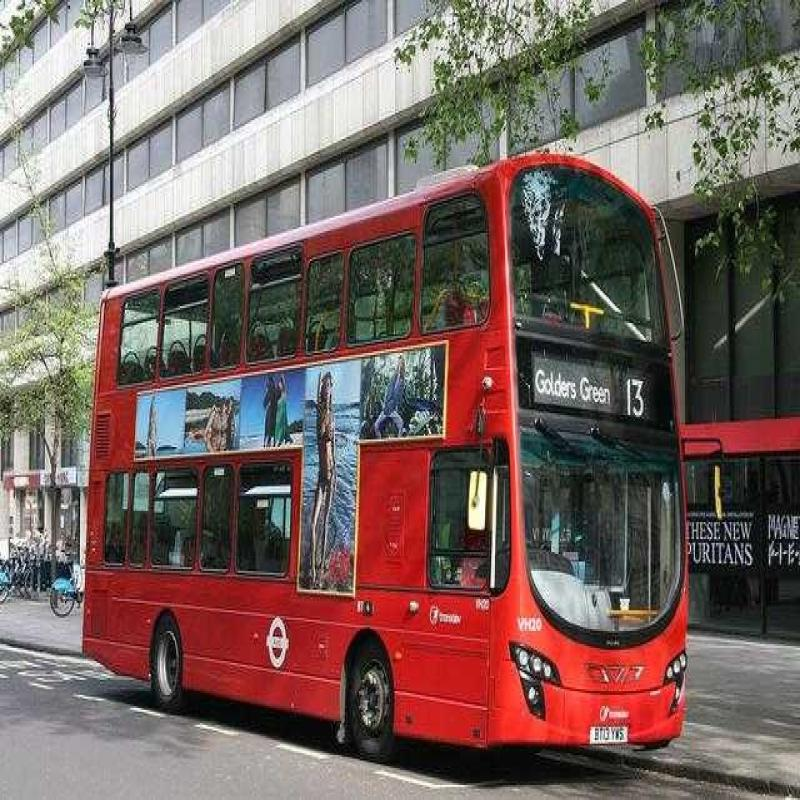bus: (74, 118, 699, 800)
